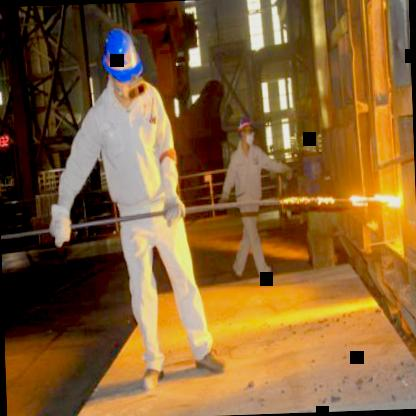helmet: (98, 22, 145, 102), (235, 114, 256, 146)
